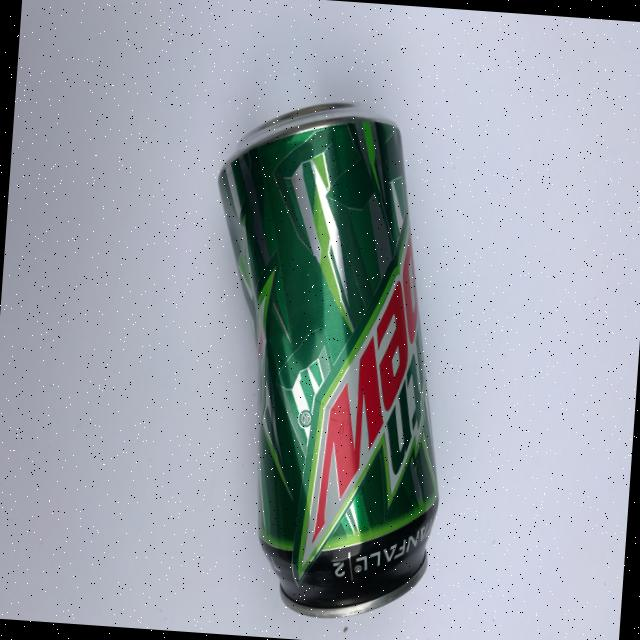metal: (186, 91, 466, 624)
